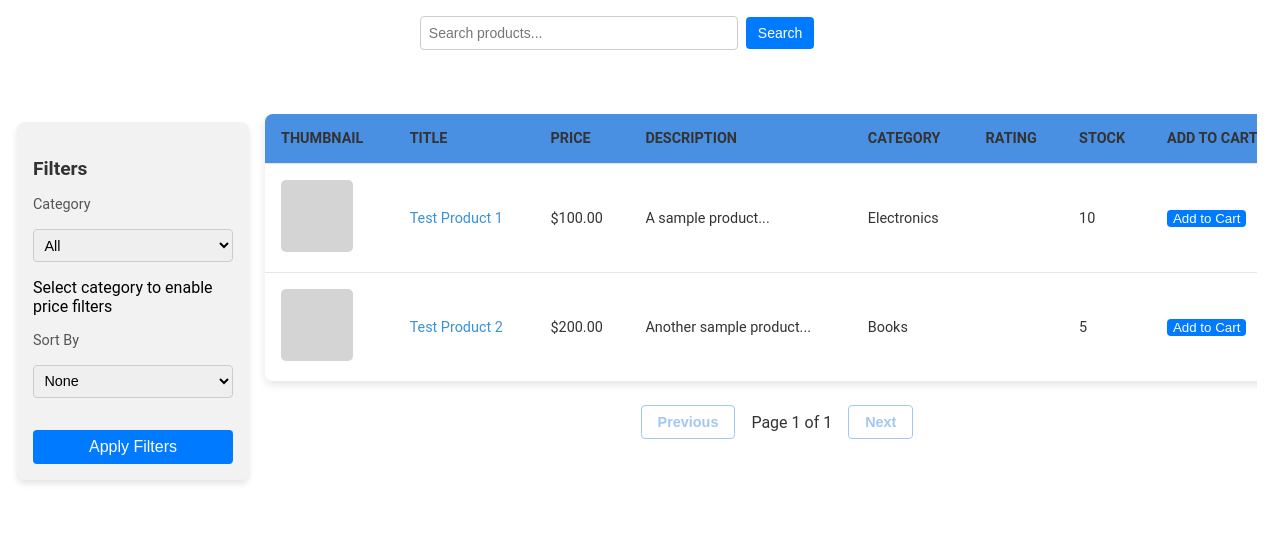
Test: Products View › applies filters correctly
This screenshot has width=1269, height=550.
Select "Electronics" in the dropdown labelled "Category": (133, 246) [33,229,233,262]
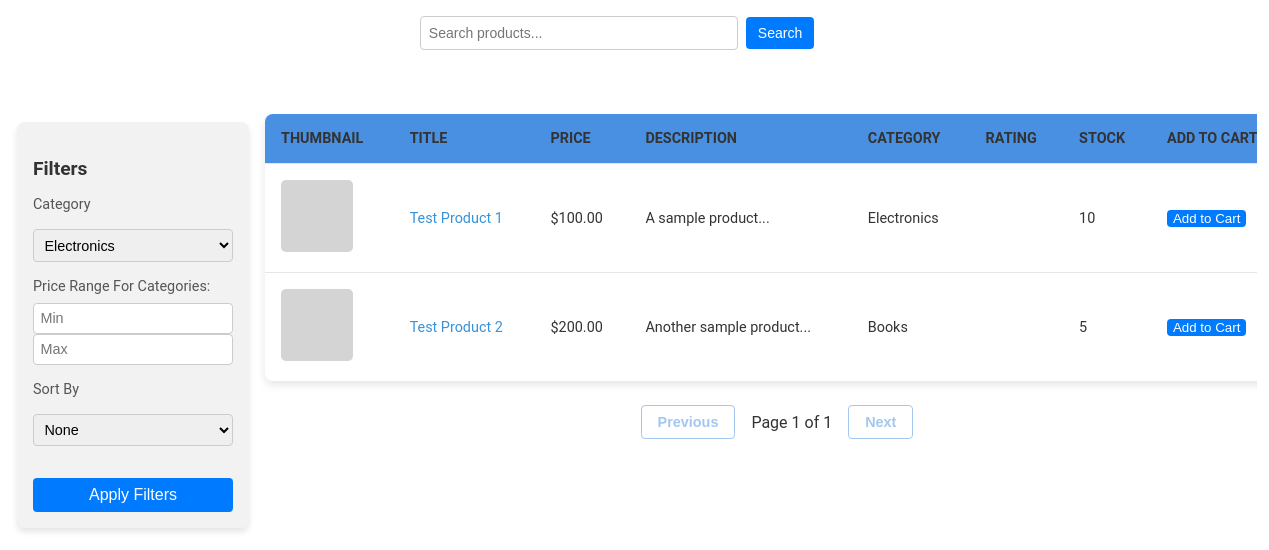
Click the button "Apply Filters": (133, 495) [33,478,233,512]
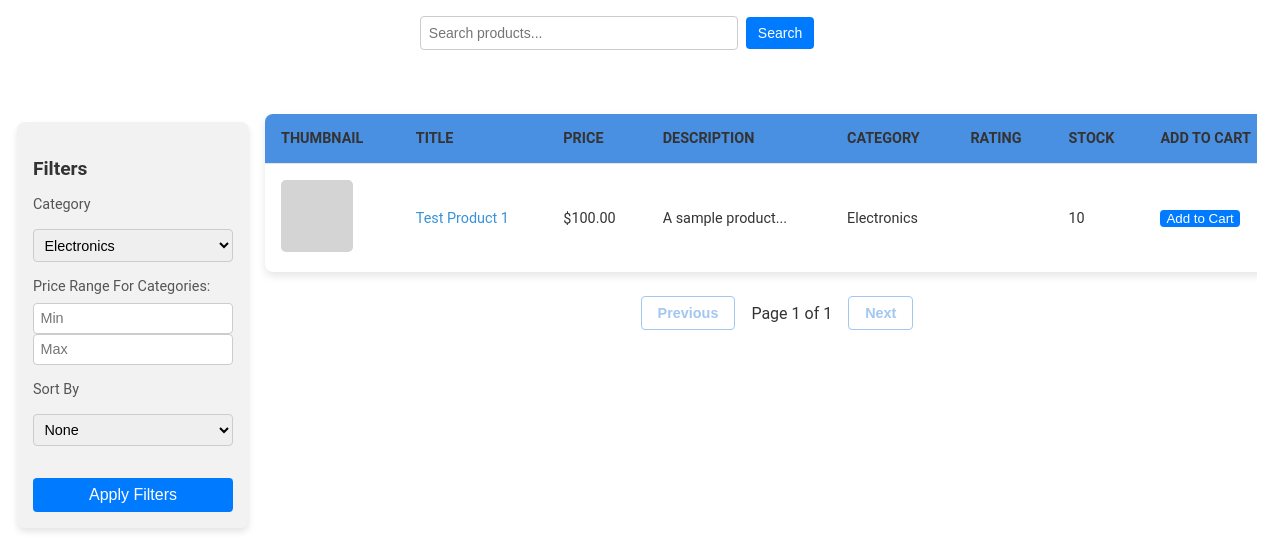
Expected: the link "Test Product 1" is shown, [416,210,509,226]
Expected: the link "Test Product 2" is gone
